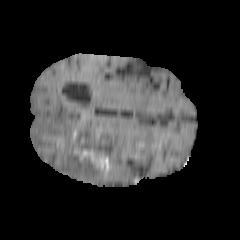glioma: (52, 110, 145, 184)
